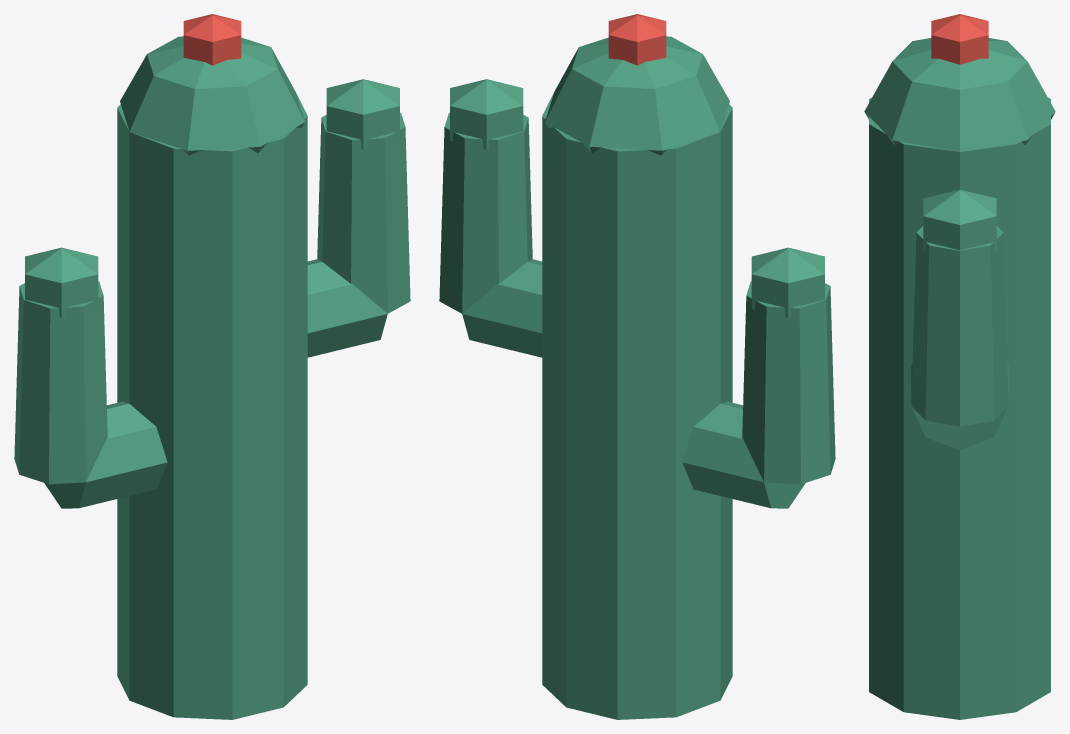
Rendered from ParkParkDecorCactus.obj.
3 renders of one model, left to right at view 1: azimuth 30°, elevation 25°; view 2: azimuth 150°, elevation 25°; view 3: azimuth 270°, elevation 25°, orthographic.
Parts seen in each view (by area): view 1: ParkParkDecorCactus; view 2: ParkParkDecorCactus; view 3: ParkParkDecorCactus.
Boxes of the visible parts, box(x1,y1,x2,y2) form: ParkParkDecorCactus: box(14, 14, 410, 719); ParkParkDecorCactus: box(439, 14, 835, 719); ParkParkDecorCactus: box(864, 14, 1055, 719).
Size of the model in its own units: 2.56 by 4.21 by 1.1.
